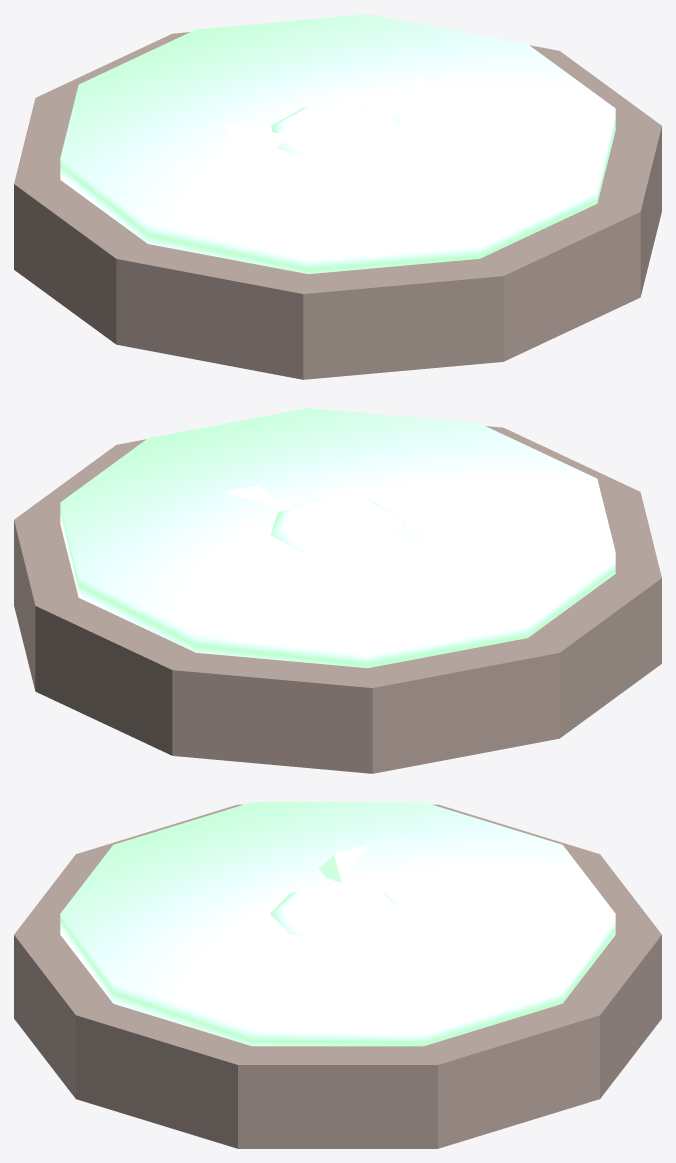
The model's file is Gimmick_GrowPad.fbx.
The picture shows the model from 3 angles, top to bottom: view 1: azimuth 30°, elevation 25°; view 2: azimuth 150°, elevation 25°; view 3: azimuth 270°, elevation 25°; orthographic projection. The views are drawn at different scales.
Parts seen in each view (by area): view 1: Gimmick_GrowPad_Top, Gimmick_GrowPad_Base, Gimmick_GrowPad, Gimmick_GrowPad_ArrowOut_-1; view 2: Gimmick_GrowPad_Top, Gimmick_GrowPad_Base, Gimmick_GrowPad, Gimmick_GrowPad_ArrowOut_-1; view 3: Gimmick_GrowPad_Top, Gimmick_GrowPad_Base, Gimmick_GrowPad, Gimmick_GrowPad_ArrowOut_-1.
Part boxes in pixels (x1,y1,x2,y2): Gimmick_GrowPad_Top: (60, 14, 615, 274); Gimmick_GrowPad_Base: (14, 32, 661, 379); Gimmick_GrowPad: (271, 73, 442, 161); Gimmick_GrowPad_ArrowOut_-1: (222, 122, 287, 163); Gimmick_GrowPad_Top: (60, 408, 615, 668); Gimmick_GrowPad_Base: (14, 426, 661, 773); Gimmick_GrowPad: (223, 485, 404, 555); Gimmick_GrowPad_ArrowOut_-1: (384, 525, 442, 547); Gimmick_GrowPad_Top: (60, 802, 615, 1046); Gimmick_GrowPad_Base: (14, 804, 661, 1148); Gimmick_GrowPad: (270, 884, 405, 960); Gimmick_GrowPad_ArrowOut_-1: (318, 843, 369, 882).
Size of the model in its own units: 0.7989 by 0.183 by 0.84.
